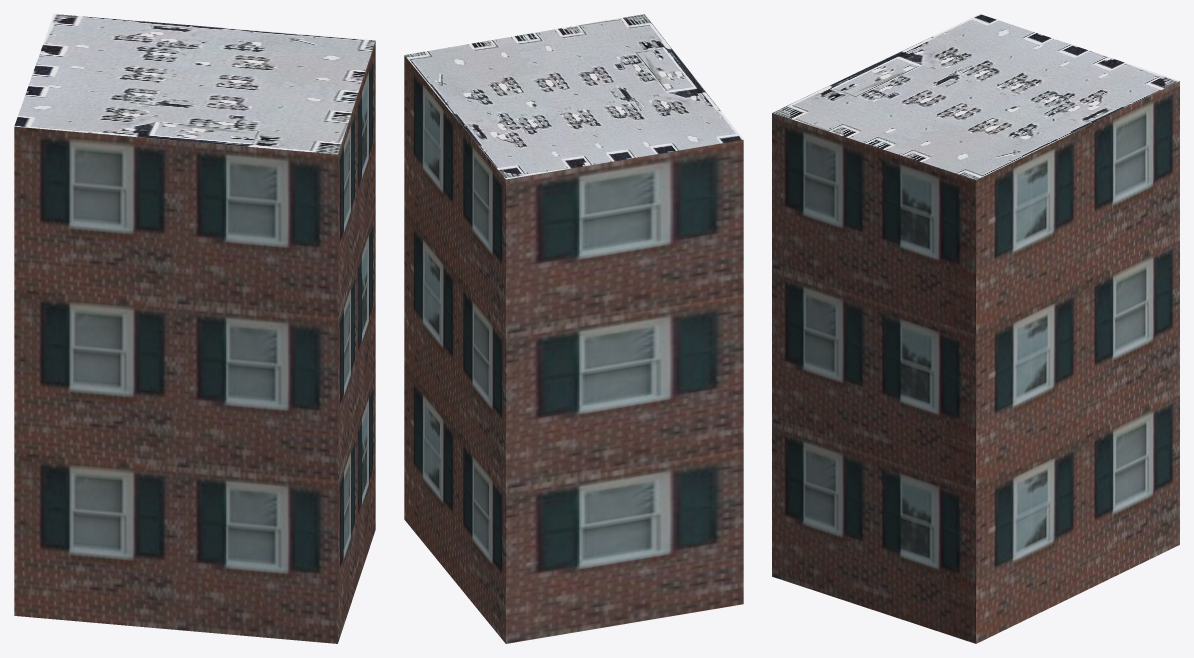
File: ResTex__4261.fbx
3 renders of one model, left to right at view 1: azimuth 30°, elevation 25°; view 2: azimuth 150°, elevation 25°; view 3: azimuth 270°, elevation 25°, orthographic. The views are drawn at different scales.
Visible parts, largest first — view 1: CityEngineMaterial_14_m, CityEngineMaterial_m; view 2: CityEngineMaterial_14_m, CityEngineMaterial_m; view 3: CityEngineMaterial_14_m, CityEngineMaterial_m.
Part boxes in pixels (x1,y1,x2,y2): CityEngineMaterial_14_m: [14, 41, 375, 643]; CityEngineMaterial_m: [14, 14, 375, 154]; CityEngineMaterial_14_m: [404, 55, 743, 643]; CityEngineMaterial_m: [404, 14, 743, 179]; CityEngineMaterial_14_m: [772, 81, 1179, 643]; CityEngineMaterial_m: [772, 14, 1179, 179].
Bounding box in the file's own units: 6.92 × 9 × 7.18.
Materials: 2 (2 with a texture image).
